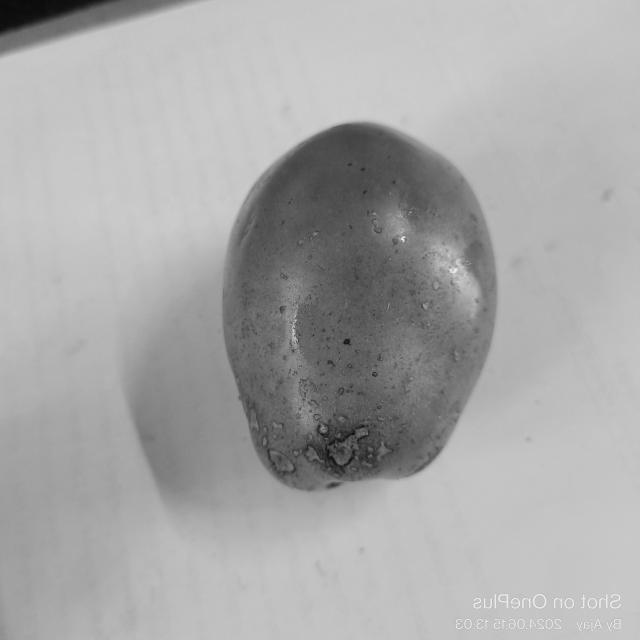Bacterial_Spot: (301, 418, 399, 475), (269, 446, 297, 474), (247, 408, 260, 431)
